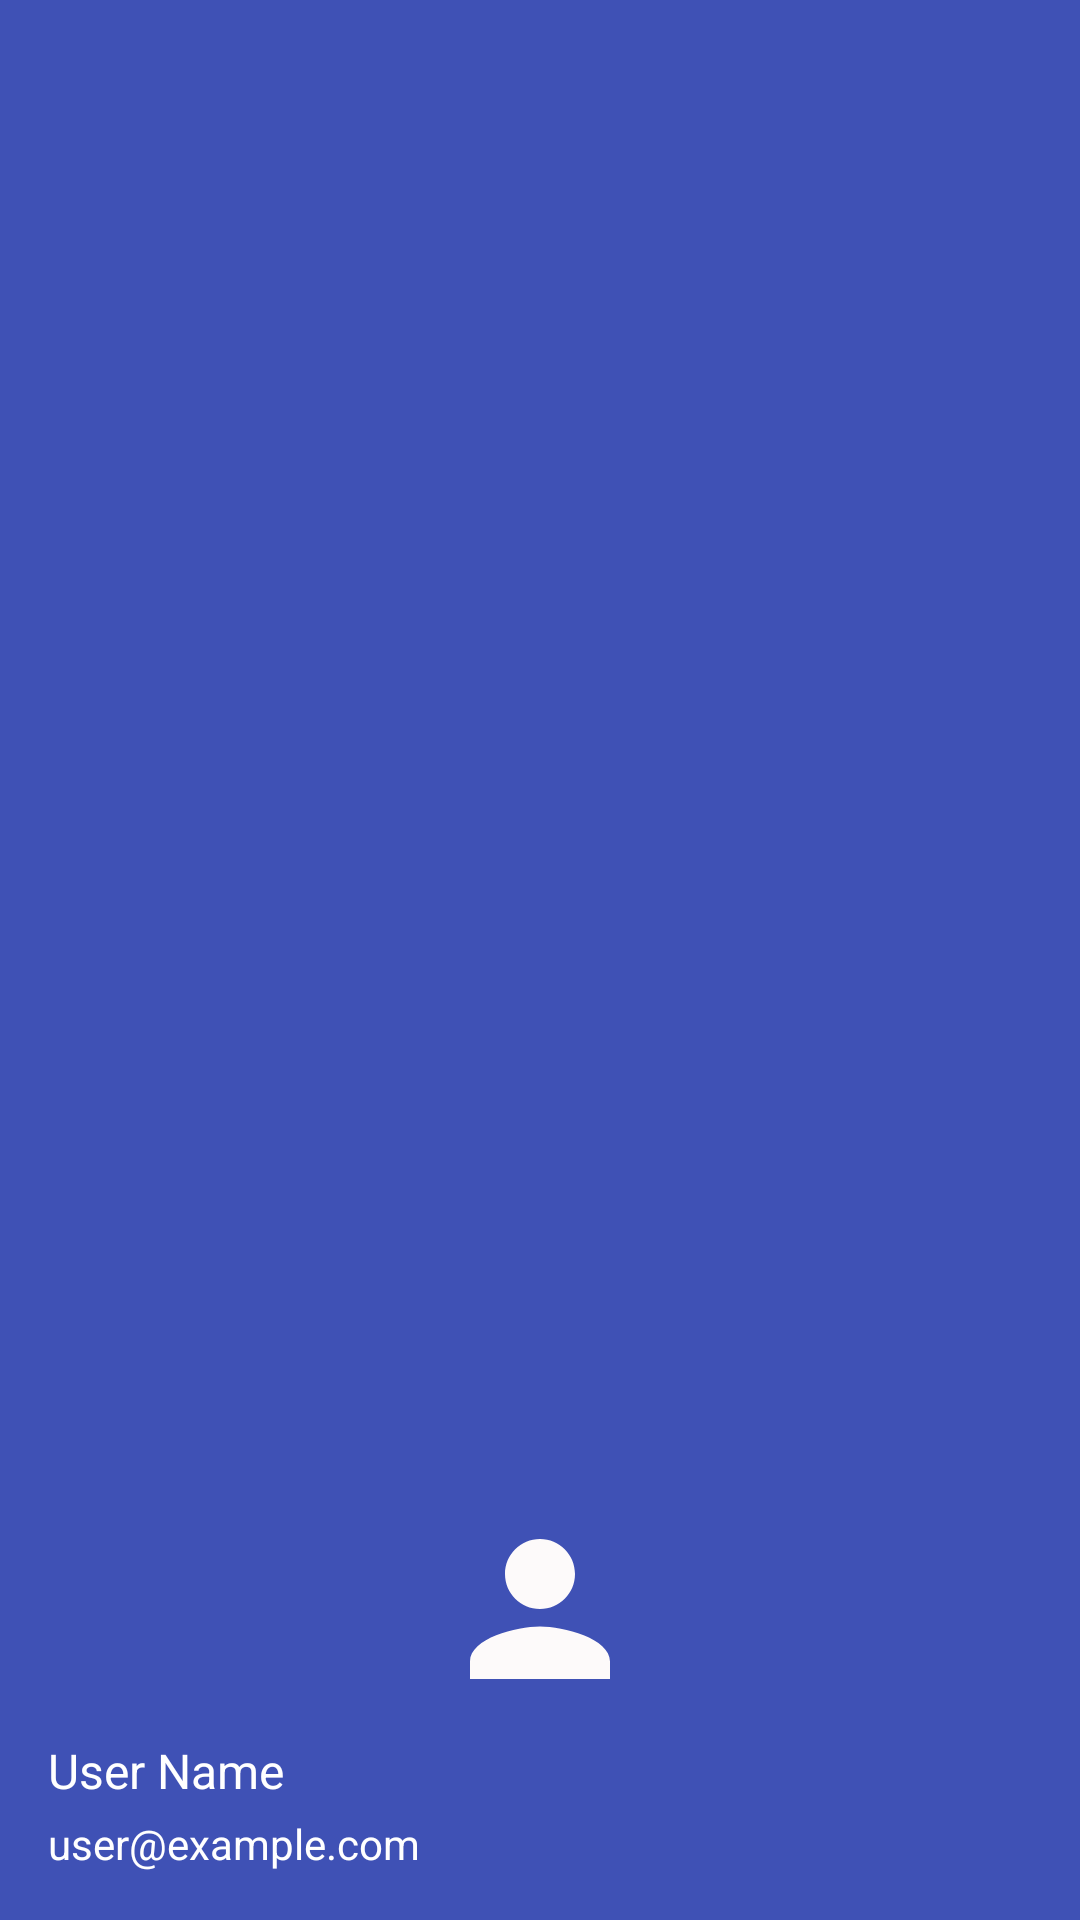

Locate icon controls on the screen. Image size 1080x1920, boxes as (x1, y1, x2, y2).
person: (470, 1539, 610, 1679)
